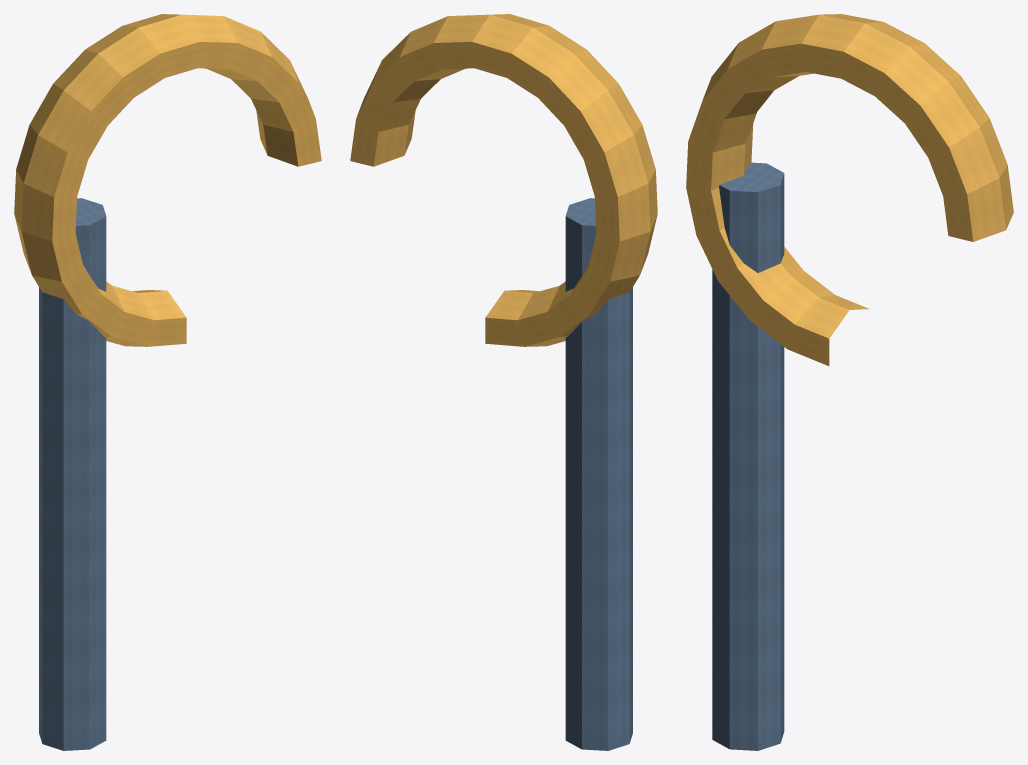
Rendered from atlas100-s058-a05.glb.
3 views of the same model, side by side, from view 1: azimuth 30°, elevation 25°; view 2: azimuth 150°, elevation 25°; view 3: azimuth 330°, elevation 25° (orthographic). The views are drawn at different scales.
Visible parts, largest first — view 1: atlas100-s058-a05:part-001, atlas100-s058-a05:part-000; view 2: atlas100-s058-a05:part-001, atlas100-s058-a05:part-000; view 3: atlas100-s058-a05:part-001, atlas100-s058-a05:part-000.
Part boxes in pixels (x1,y1,x2,y2): atlas100-s058-a05:part-001: (14, 14, 321, 346); atlas100-s058-a05:part-000: (39, 198, 106, 750); atlas100-s058-a05:part-001: (350, 14, 657, 346); atlas100-s058-a05:part-000: (565, 198, 632, 750); atlas100-s058-a05:part-001: (686, 14, 1013, 365); atlas100-s058-a05:part-000: (712, 162, 784, 750).
Size of the model in its own units: 0.3704 by 0.8399 by 0.0832.
2 materials, 2 textured.
